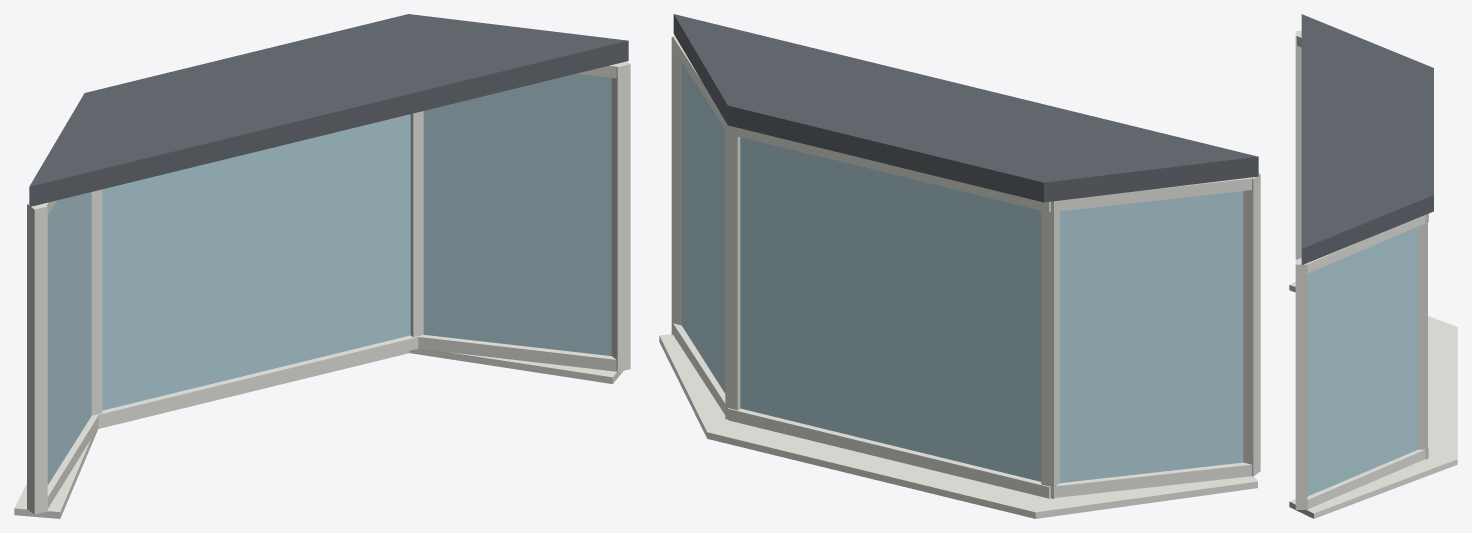
File: opening.window.bay_large.glb
3 views of the same model, side by side, from view 1: azimuth 30°, elevation 25°; view 2: azimuth 150°, elevation 25°; view 3: azimuth 270°, elevation 25° (orthographic). The views are drawn at different scales.
Parts seen in each view (by area): view 1: glazing__glass, roof__lead, frame__paint_white; view 2: glazing__glass, roof__lead, frame__paint_white; view 3: roof__lead, glazing__glass, frame__paint_white.
Boxes of the visible parts, <box> form: glazing__glass: <box>47,74,611,484</box>; roof__lead: <box>29,14,628,206</box>; frame__paint_white: <box>14,61,630,518</box>; glazing__glass: <box>681,62,1243,482</box>; roof__lead: <box>673,14,1258,202</box>; frame__paint_white: <box>659,35,1260,518</box>; roof__lead: <box>1301,14,1433,264</box>; glazing__glass: <box>1307,226,1417,495</box>; frame__paint_white: <box>1289,31,1457,518</box>.
Size of the model in its own units: 3.79 by 1.96 by 1.12.
